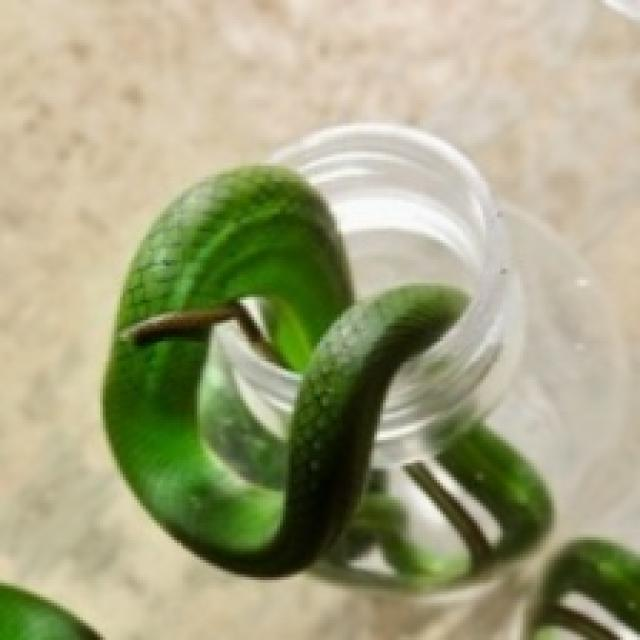red-tailed green ratsnake: (103, 166, 466, 574), (437, 420, 549, 560), (206, 317, 300, 437), (469, 429, 549, 557), (209, 314, 294, 434)
